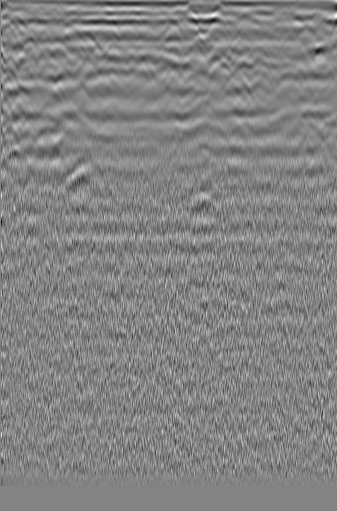상수: (285, 33, 319, 68)
오수: (9, 48, 42, 80)
우수: (156, 56, 185, 84)
